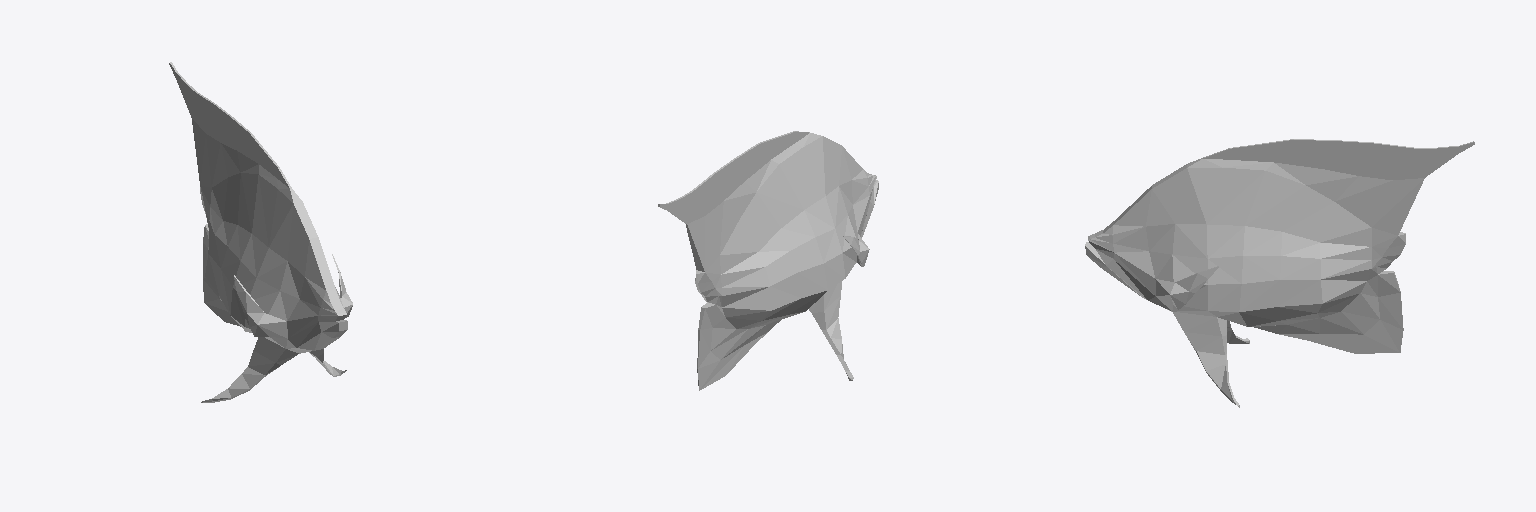
Rendered from cpez2.obj.
The picture shows the model from 3 angles: view 1: azimuth 30°, elevation 25°; view 2: azimuth 150°, elevation 25°; view 3: azimuth 270°, elevation 25°; orthographic projection.
Visible parts, largest first — view 1: polySurface100 polySurface97; view 2: polySurface100 polySurface97; view 3: polySurface100 polySurface97.
Boxes of the visible parts, x1=… form: polySurface100 polySurface97: x1=169, y1=62, x2=352, y2=402; polySurface100 polySurface97: x1=658, y1=131, x2=878, y2=390; polySurface100 polySurface97: x1=1085, y1=139, x2=1474, y2=407.
Size of the model in its own units: 0.2399 by 0.3913 by 0.5754.